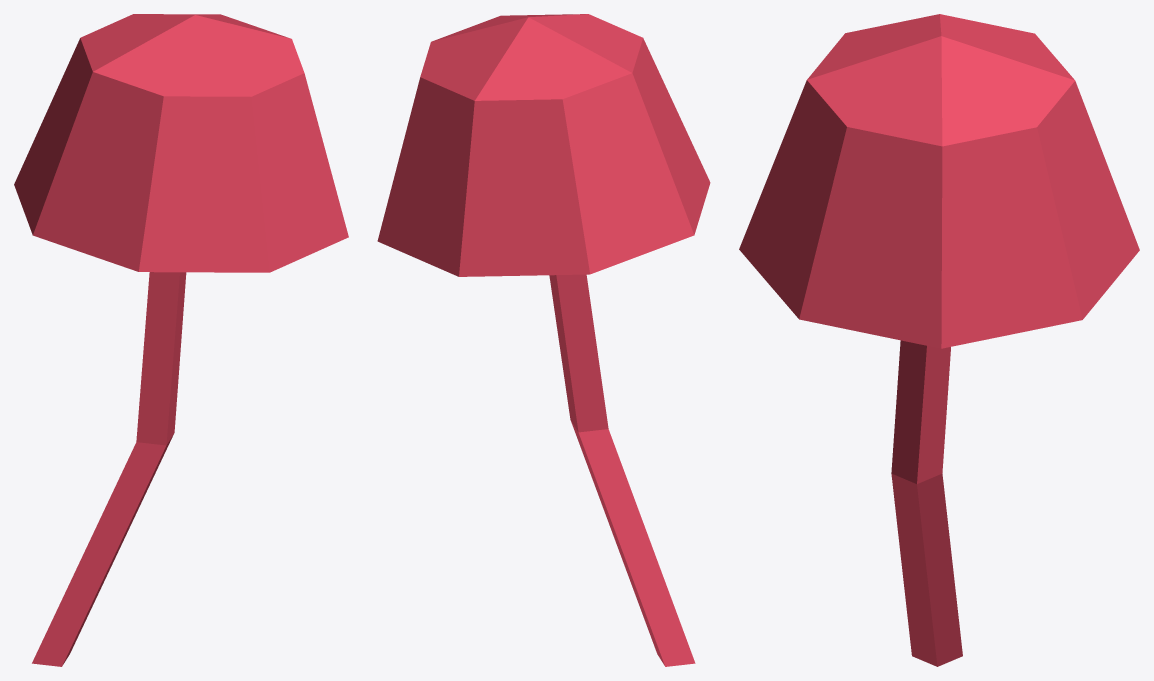
The model's file is Mushroom_c_03.fbx.
3 renders of one model, left to right at view 1: azimuth 30°, elevation 25°; view 2: azimuth 150°, elevation 25°; view 3: azimuth 270°, elevation 25°, orthographic. The views are drawn at different scales.
Visible parts, largest first — view 1: Mushroom_c_03; view 2: Mushroom_c_03; view 3: Mushroom_c_03.
Boxes of the visible parts, x1,y1,x2,y2 form: Mushroom_c_03: [14, 14, 348, 666]; Mushroom_c_03: [377, 14, 710, 666]; Mushroom_c_03: [739, 14, 1139, 666].
Bounding box in the file's own units: 0.1362 × 0.2633 × 0.1362.
